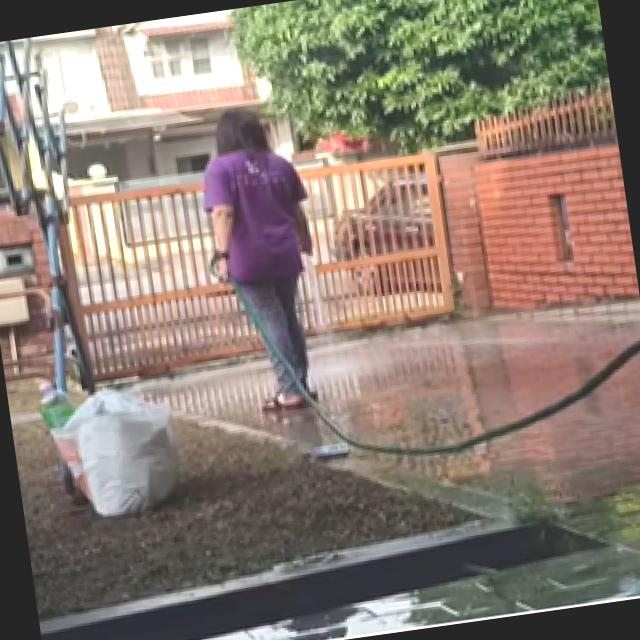person: (190, 101, 340, 418)
